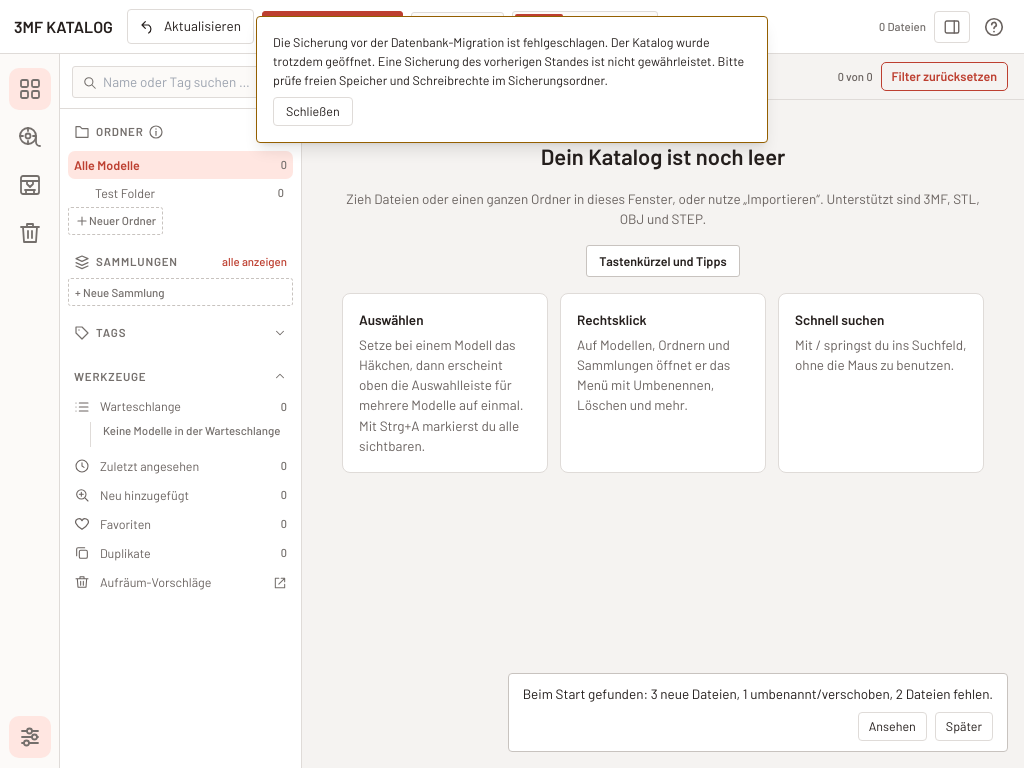
Test: checks once after the catalog loaded, shows the notice and opens the sync from View
Expected: the text "Beim Start gefunden: 3 neue Dateien, 1 umbenannt/verschoben, 2 Dateien fehlen." is shown, [523,684,993,704]
Expected: the text "Beim Start gefunden" is shown, [523,685,993,702]
Click the button "Ansehen" at (892, 727), box [858,712,927,741]
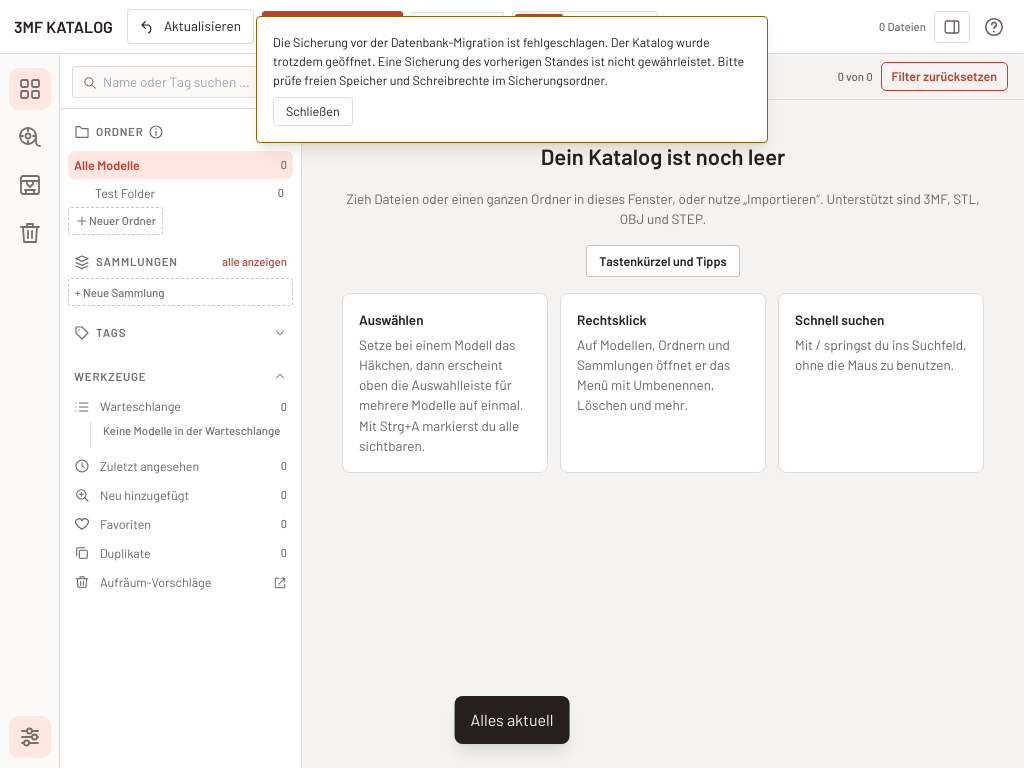
Expected: the text "Beim Start gefunden" is gone
